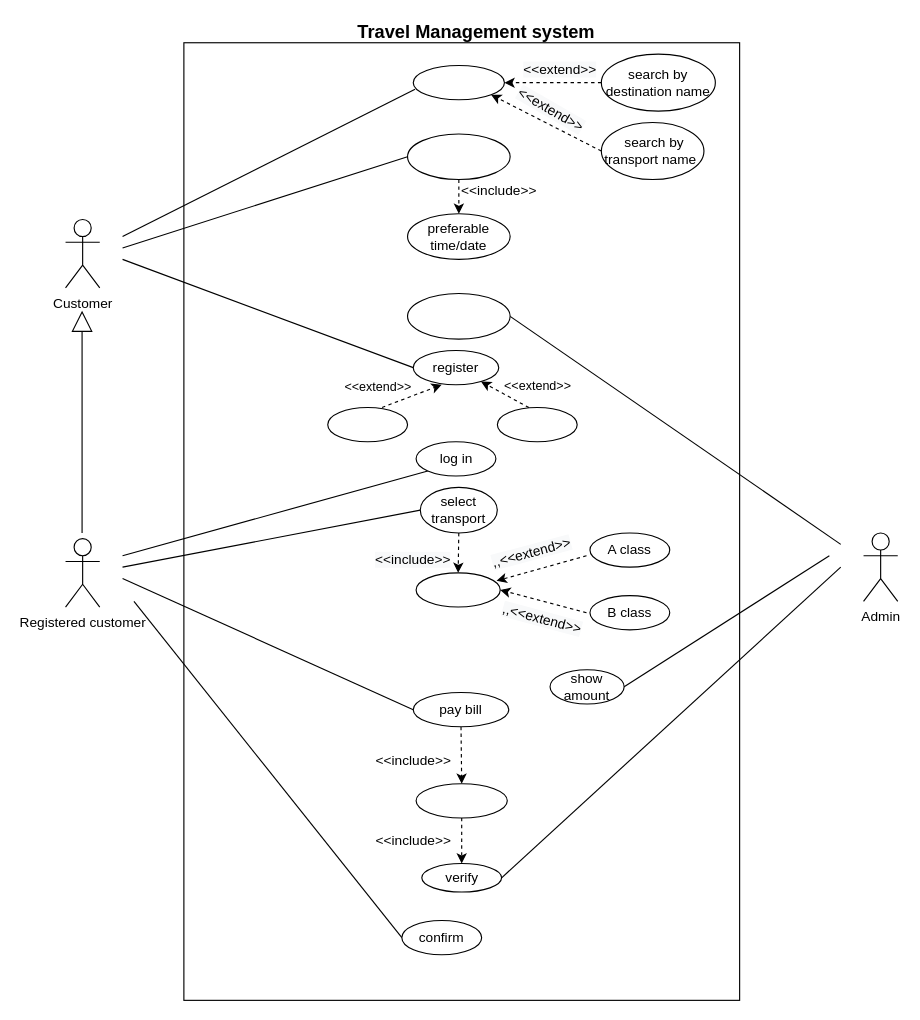
Image size: 920x1020. Some labels were removed from this diagram. Here are the shapes that lost their labels. From the top down, the centre of each, then its label:
point 458,82: search
point 458,156: select destination
point 458,315: check vacant transportation
point 367,424: By email
point 536,424: By phone no.
point 457,589: select seat type
point 461,800: credit card info
